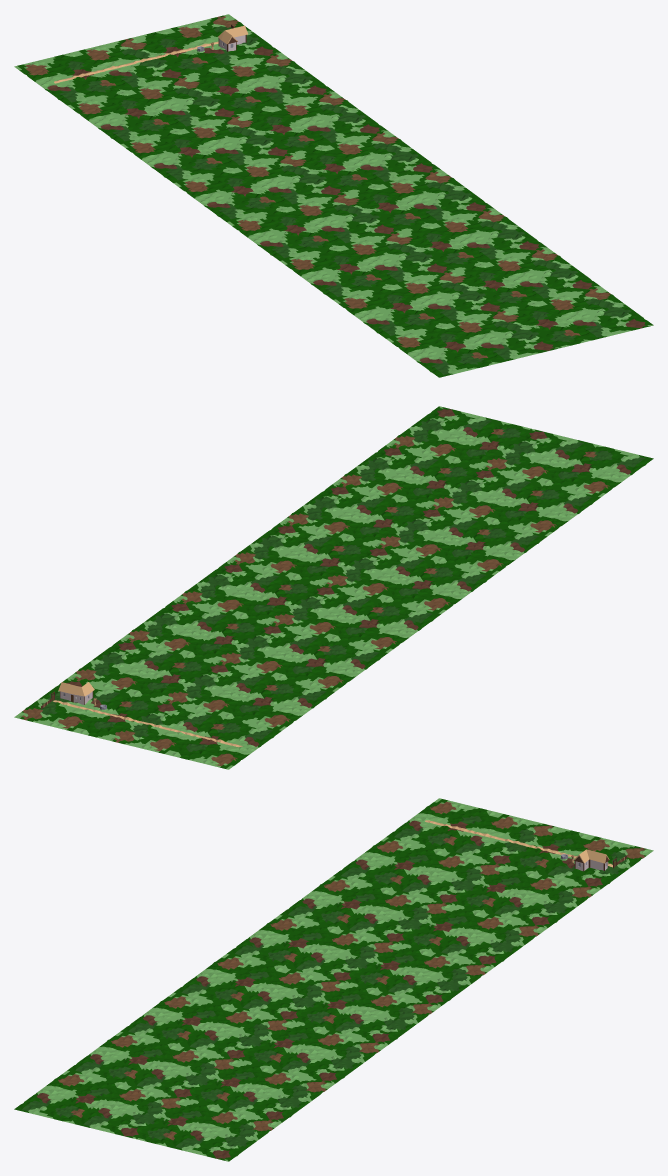
The model's file is TownPack1.fbx.
3 renders of one model, top to bottom at view 1: azimuth 30°, elevation 25°; view 2: azimuth 150°, elevation 25°; view 3: azimuth 330°, elevation 25°, orthographic.
Visible parts, largest first — view 1: TownGround_1, HouseBase_1; view 2: TownGround_1, HouseBase_1; view 3: TownGround_1, HouseBase_1.
Boxes of the visible parts, <box> form: TownGround_1: <box>14,14,653,377</box>; HouseBase_1: <box>218,25,247,51</box>; TownGround_1: <box>14,406,653,769</box>; HouseBase_1: <box>58,682,94,704</box>; TownGround_1: <box>14,798,653,1161</box>; HouseBase_1: <box>573,849,609,871</box>.
Bounding box in the file's own units: 70 × 5.25 × 240.
